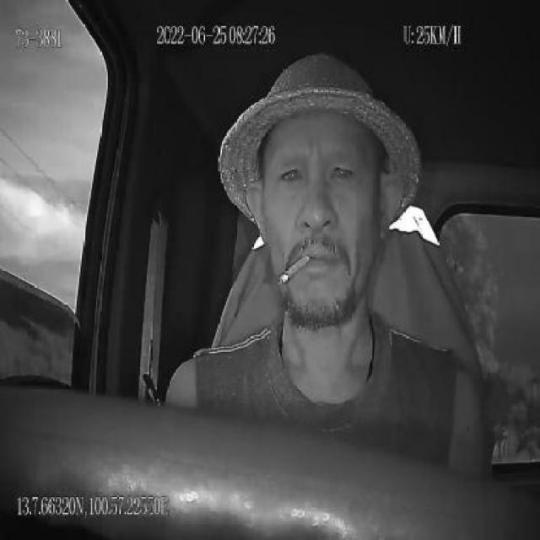smoking: (279, 250, 310, 286)
